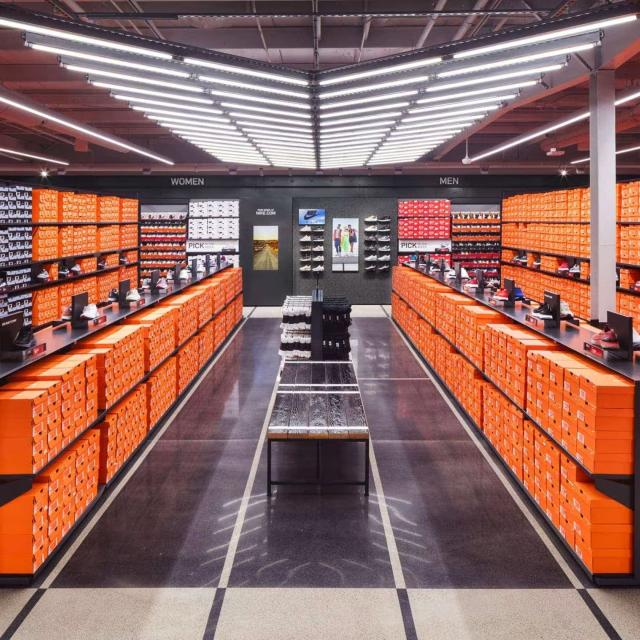nike: (301, 205, 325, 223)
